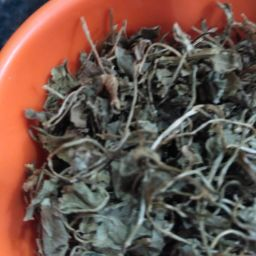Fenugeek (dried): (38, 14, 141, 256), (85, 40, 256, 174), (147, 10, 242, 243)
